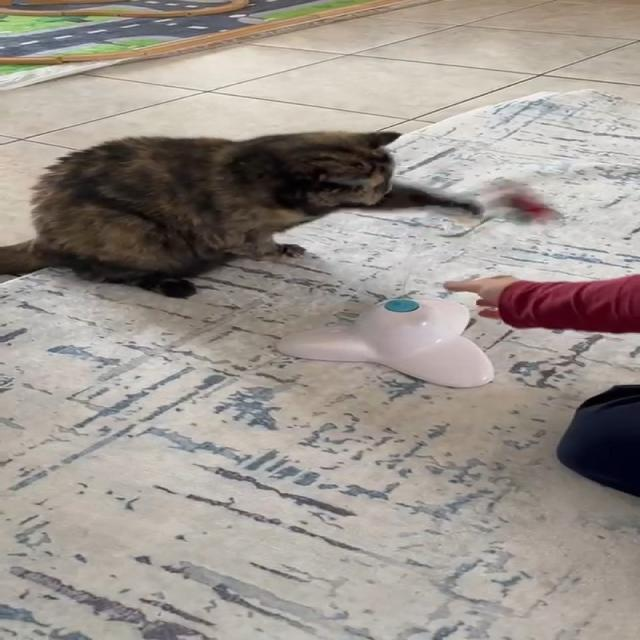authorized: (0, 129, 483, 299)
